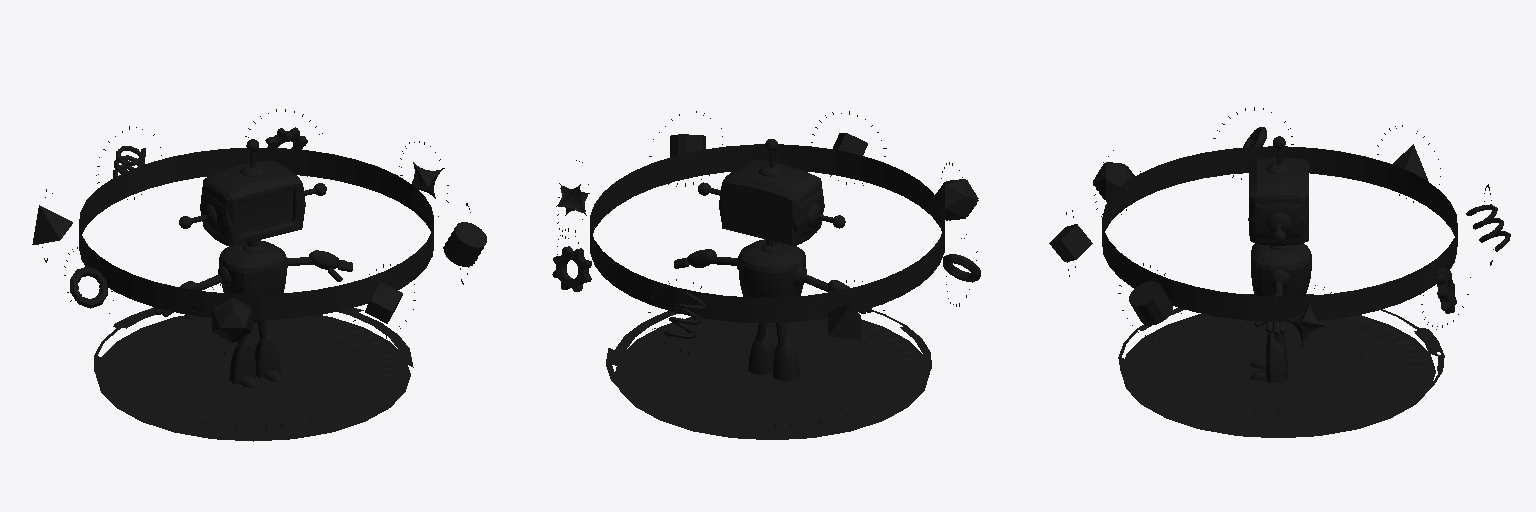
File: Robot_Holo_5.obj
3 renders of one model, left to right at view 1: azimuth 30°, elevation 25°; view 2: azimuth 150°, elevation 25°; view 3: azimuth 270°, elevation 25°, orthographic.
Visible parts, largest first — view 1: obj1, obj10, obj50, obj3, obj39, obj4, obj2, obj35, obj31, obj33, obj22, obj28 (+2 smaller); view 2: obj1, obj10, obj50, obj3, obj39, obj4, obj2, obj35, obj33, obj16, obj22, obj19 (+3 smaller); view 3: obj1, obj10, obj50, obj3, obj39, obj4, obj2, obj31, obj28, obj35, obj33, obj16.
Part boxes in pixels (x1,y1,x2,y2): obj1: (96,315,410,441); obj10: (79,148,433,319); obj50: (200,161,305,246); obj3: (131,320,374,408); obj39: (219,240,287,322); obj4: (94,307,413,430); obj2: (162,331,344,407); obj35: (229,335,280,383); obj31: (443,222,486,266); obj33: (212,297,252,342); obj22: (32,206,72,244); obj28: (365,281,402,323); obj1: (615,317,929,439); obj10: (590,144,944,322); obj50: (719,160,824,245); obj3: (649,327,890,421); obj39: (738,239,805,297); obj4: (606,310,931,432); obj2: (681,329,863,405); obj35: (748,330,799,380); obj33: (935,179,978,220); obj16: (552,246,591,291); obj22: (827,304,861,339); obj19: (664,290,705,338); obj1: (1122,314,1435,437); obj10: (1102,146,1457,321); obj50: (1248,158,1308,245); obj3: (1225,320,1404,419); obj39: (1251,243,1311,295); obj4: (1118,294,1444,427); obj2: (1187,327,1366,403); obj31: (1129,281,1172,325); obj28: (1050,224,1091,261); obj35: (1266,332,1287,382); obj33: (1093,162,1134,201); obj16: (1436,267,1456,313).
Bounding box in the file's own units: 60.8 × 34.3 × 61.06.